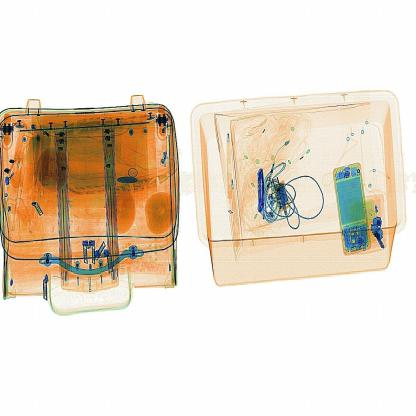knife: (252, 162, 281, 219)
